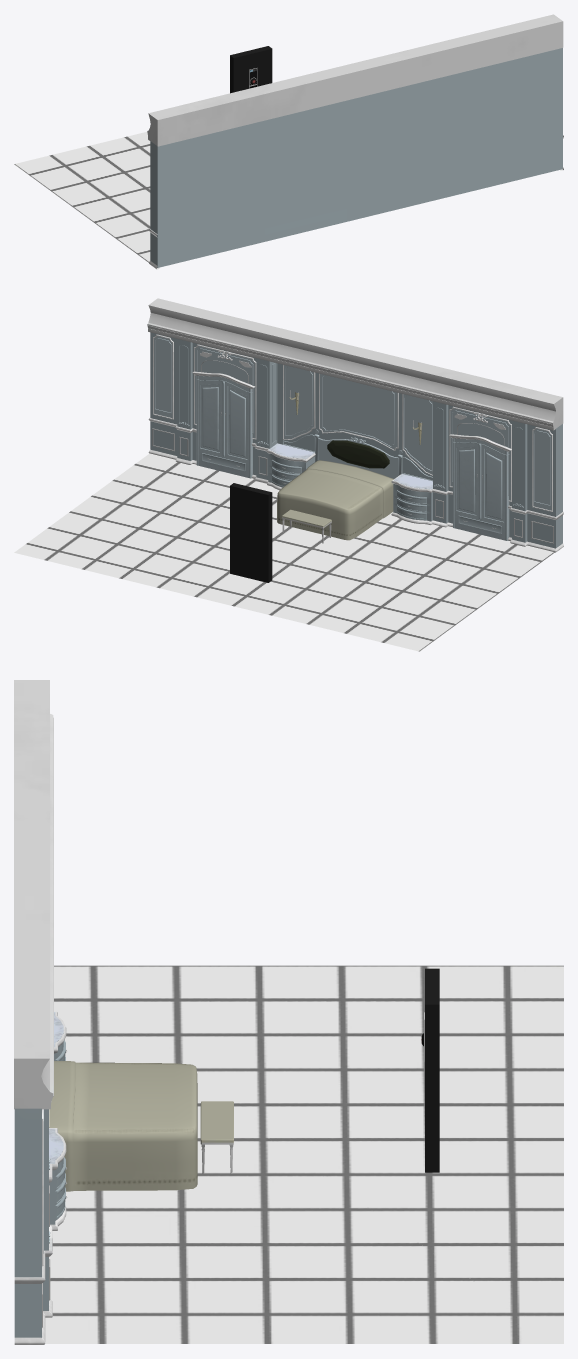
The model's file is space_room.glb.
The picture shows the model from 3 angles, top to bottom: view 1: azimuth 30°, elevation 25°; view 2: azimuth 150°, elevation 25°; view 3: azimuth 270°, elevation 25°; orthographic projection. The views are drawn at different scales.
Visible parts, largest first — view 1: pared principal__0; view 2: pared principal__0; view 3: pared principal__0.
Part boxes in pixels (x1,y1,x2,y2): pared principal__0: (14,14,563,269); pared principal__0: (14,298,563,651); pared principal__0: (14,680,563,1344).
Bounding box in the file's own units: 9.87 × 3.46 × 6.04.
1 material, 1 textured.
